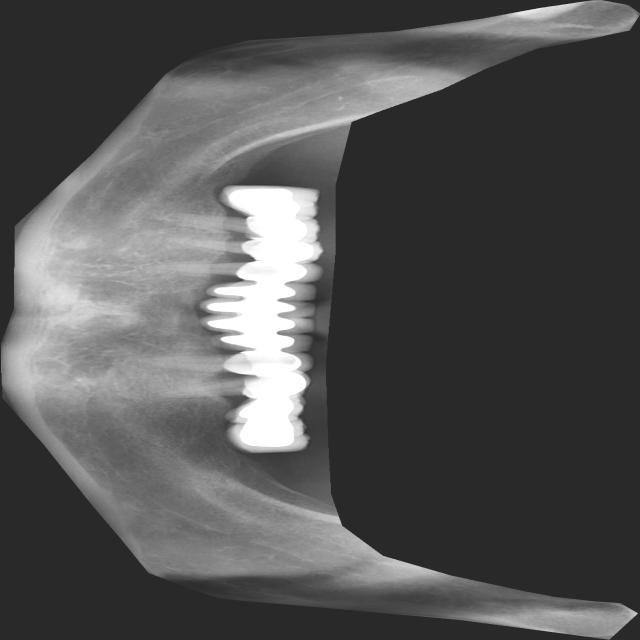mandibula: (0, 0, 640, 640)
